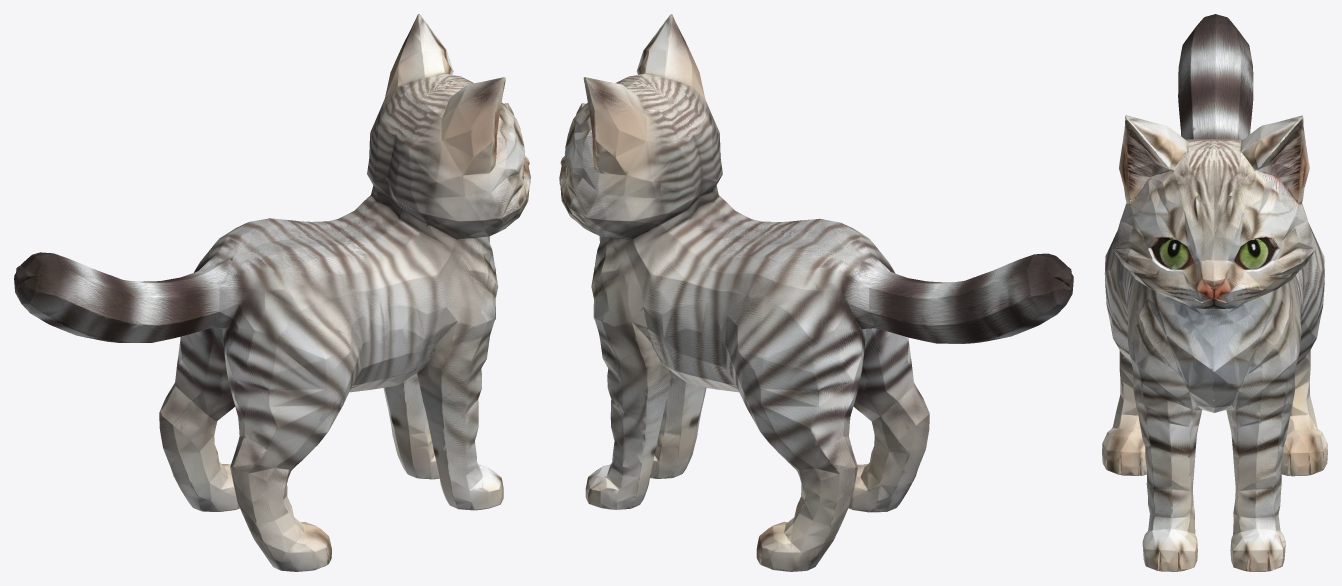
File: SILKSTRIPE.glb
3 renders of one model, left to right at view 1: azimuth 30°, elevation 25°; view 2: azimuth 150°, elevation 25°; view 3: azimuth 270°, elevation 25°, orthographic. The views are drawn at different scales.
Parts seen in each view (by area): view 1: fit; view 2: fit; view 3: fit.
Part boxes in pixels (bbox=[...]): fit: bbox=[14, 14, 530, 571]; fit: bbox=[559, 14, 1073, 571]; fit: bbox=[1102, 14, 1327, 571].
Bounding box in the file's own units: 1.22 × 0.9999 × 0.4553.
Materials: 1 (1 with a texture image).
